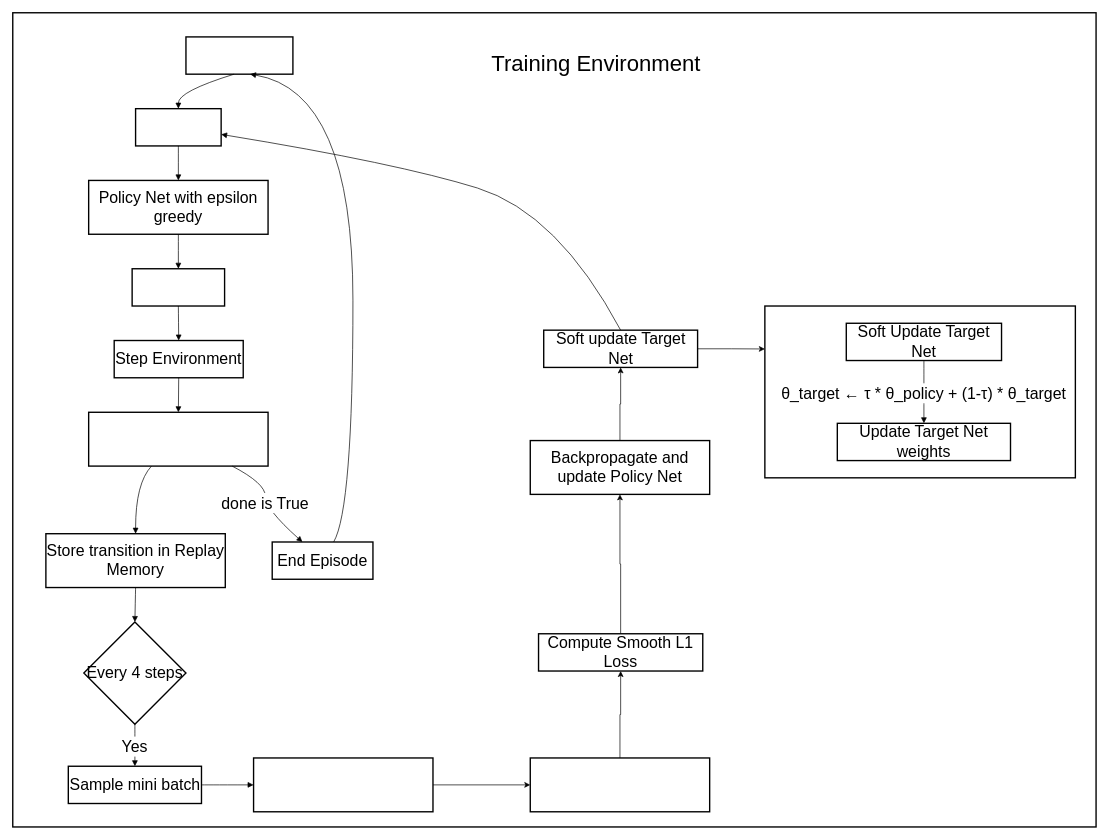
Image size: 1108x839. Some labels were removed from this diagram. The shapes that lost their labels are listed below. From the top down, each one's centre as x and y in pixels, then its label:
(x=239, y=55): Start Episode
(x=178, y=127): State s_t
(x=178, y=287): Action a_t
(x=178, y=438): Get next state s_t+1, reward r_t, done flag
(x=343, y=784): Compute Q values from Policy Net
(x=619, y=784): Compute Target Q from Target Net
